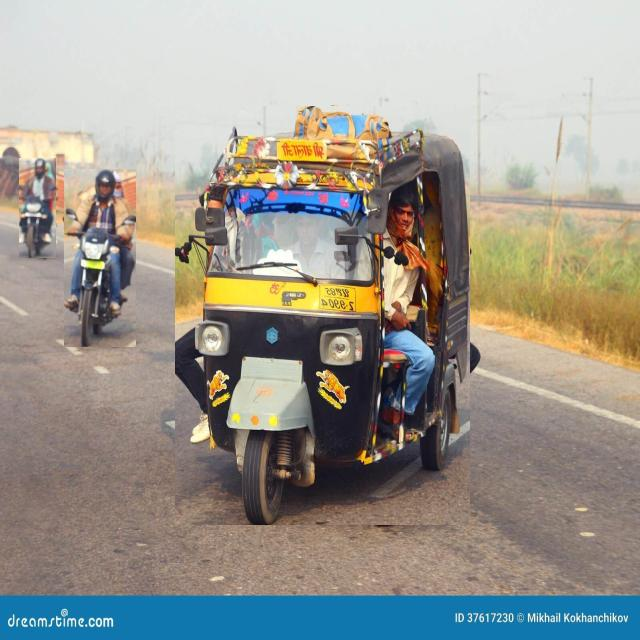autorickshaw: (175, 107, 470, 525)
motorcycle: (64, 170, 136, 347), (19, 158, 56, 258)
